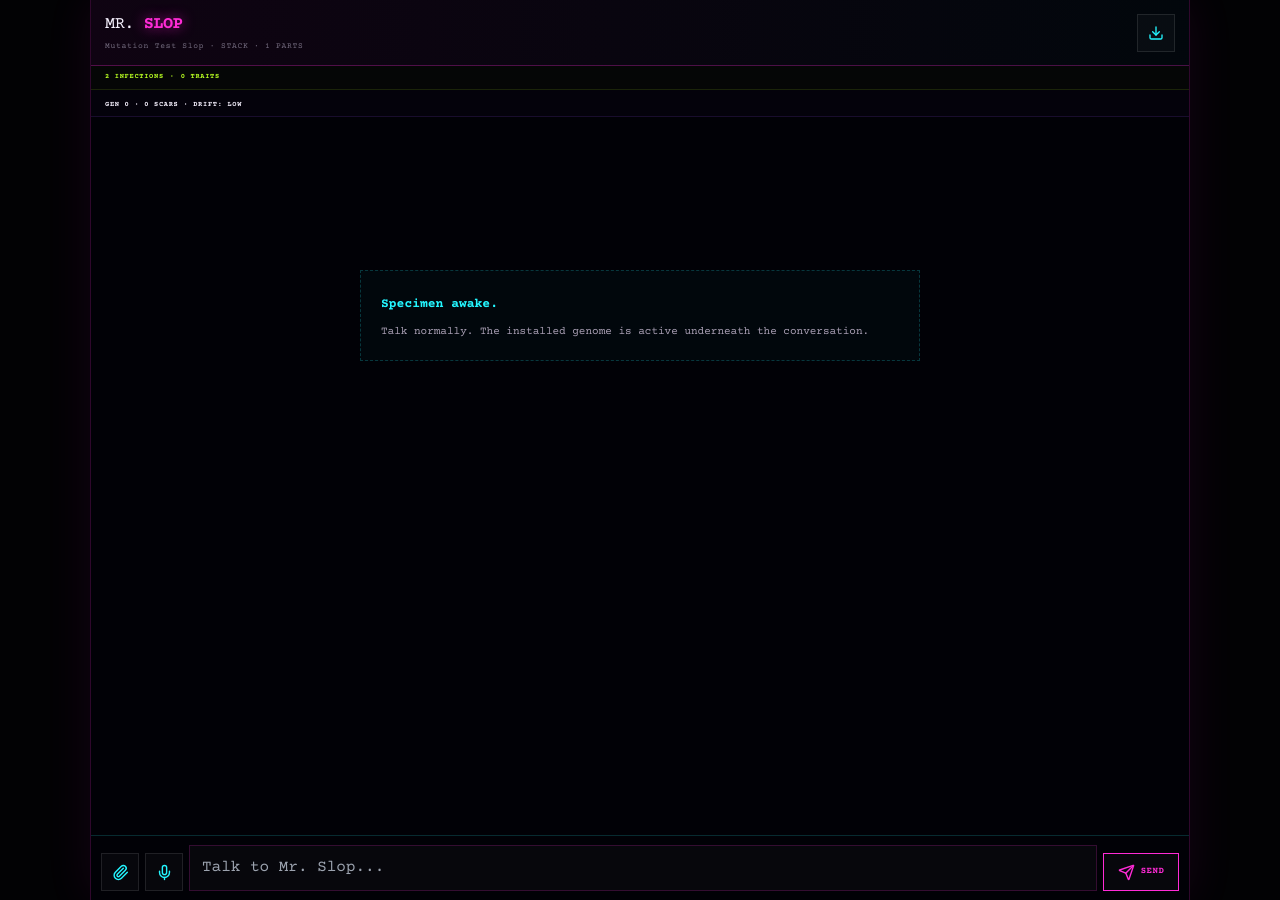
Test case: Mr. Slop mutation UI and lifecycle › offers real active infections as choices when undo target is ambiguous
Type "undo that shit" into the text box with placeholder "Talk to Mr. Slop...".
click(643, 868); type("undo that shit")  # box [189,845,1097,891]
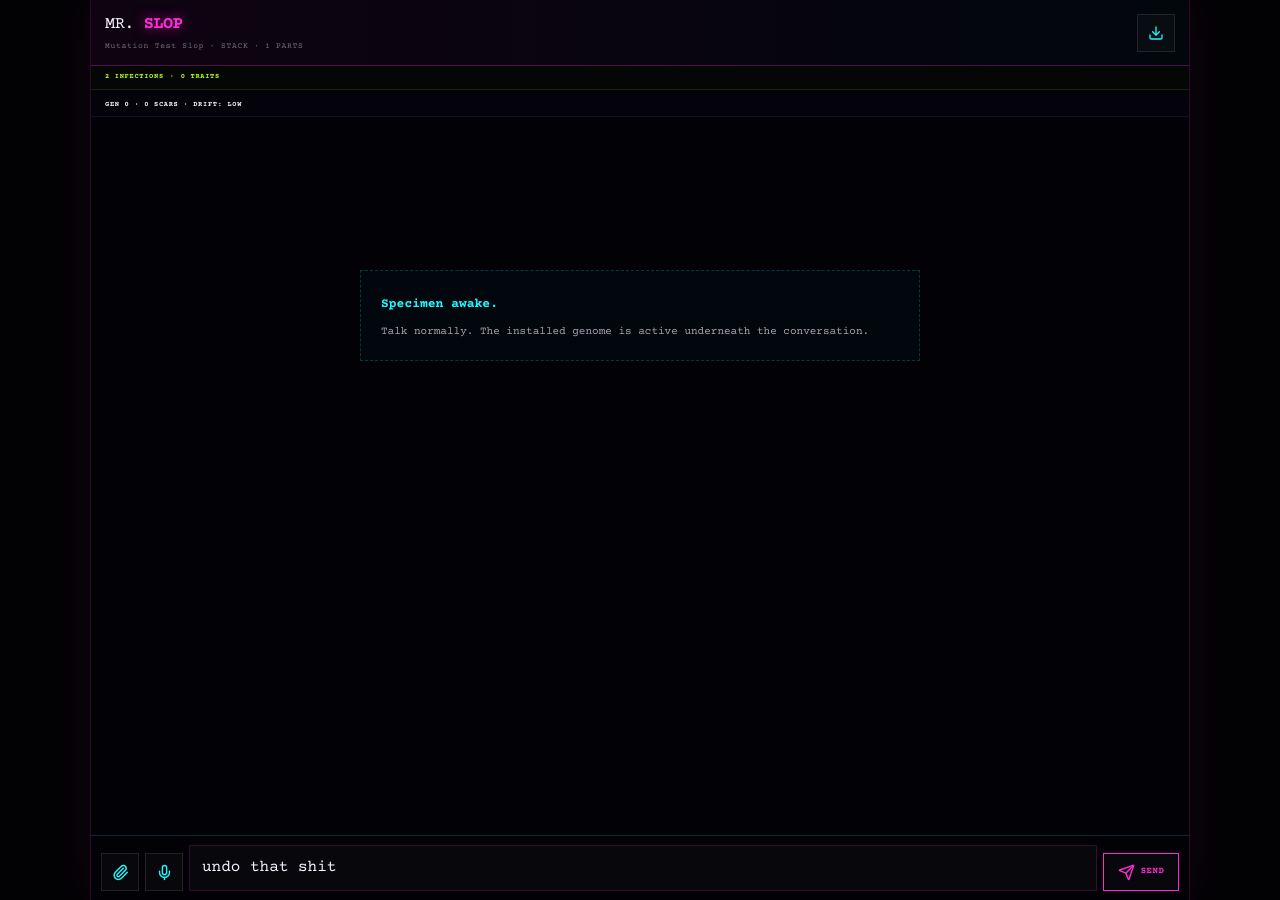
Click the button "SEND".
click(1141, 872)  # box [1103,853,1179,891]
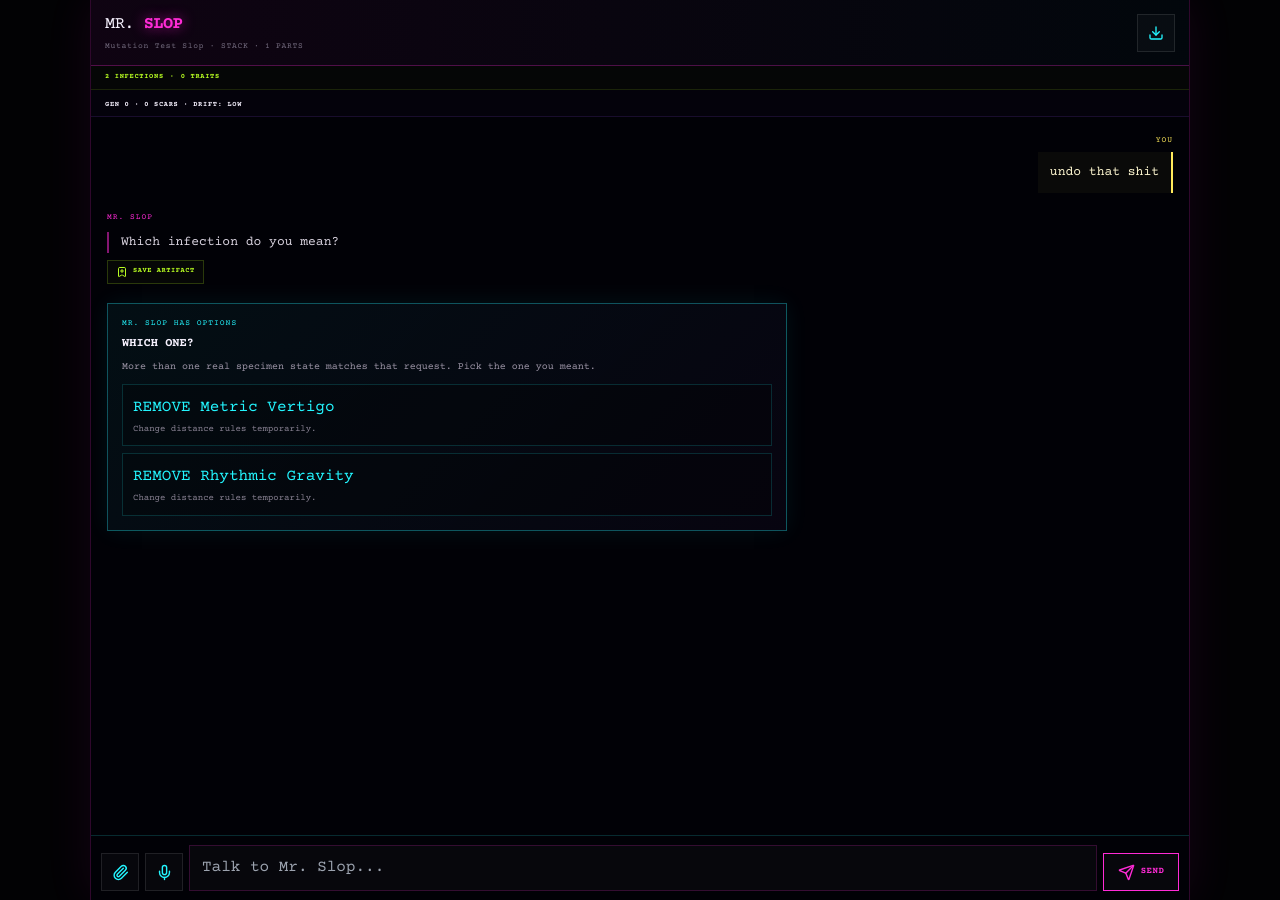
Now the button "REMOVE Metric Vertigo Change distance rules temporarily." is shown, box [122,384,772,446]
Now the button "REMOVE Rhythmic Gravity Change distance rules temporarily." is shown, box [122,453,772,516]
